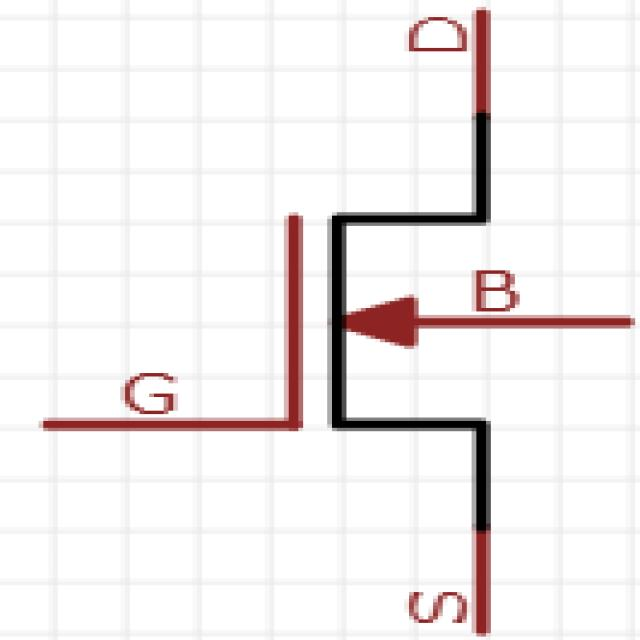nmos: (52, 4, 615, 634)
